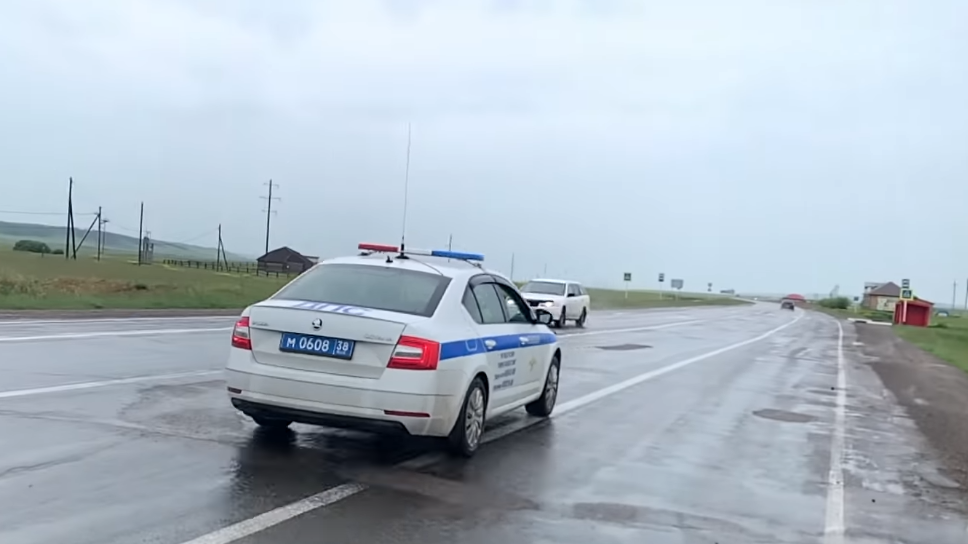non emergency car: (514, 279, 588, 328)
police car: (225, 242, 561, 460)
